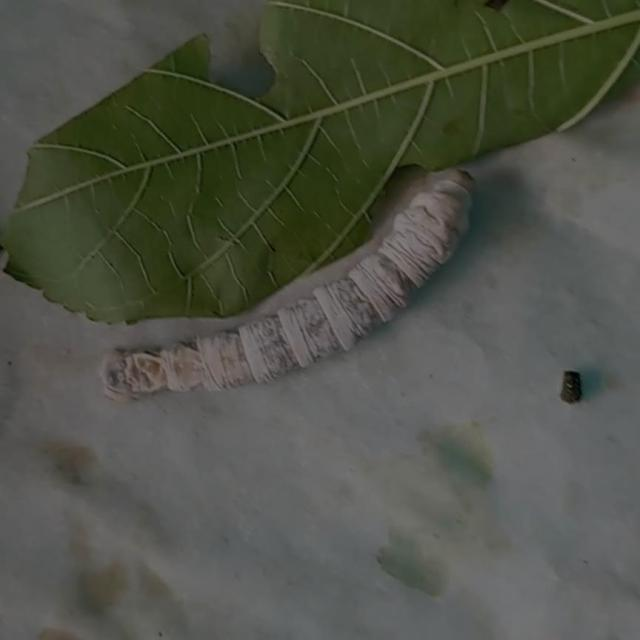Grasserie: (90, 157, 482, 405)
